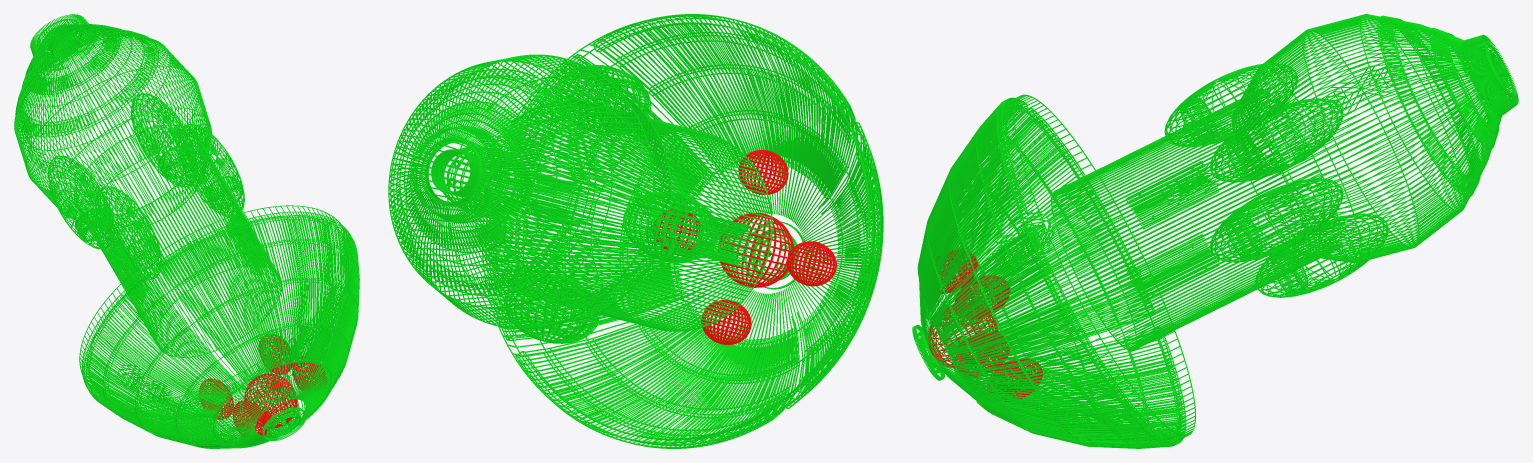
The model's file is warp-generator-highlight-energy-flow-monitoring.glb.
3 renders of one model, left to right at view 1: azimuth 30°, elevation 25°; view 2: azimuth 150°, elevation 25°; view 3: azimuth 270°, elevation 25°, orthographic. The views are drawn at different scales.
Visible parts, largest first — view 1: warp-field-generator technical wire, flux-capacitor-and-energy-ducts technical wire, chassis technical wire, energy-flow-monitoring technical wire; view 2: warp-field-generator technical wire, flux-capacitor-and-energy-ducts technical wire, chassis technical wire, energy-flow-monitoring technical wire; view 3: warp-field-generator technical wire, flux-capacitor-and-energy-ducts technical wire, chassis technical wire, energy-flow-monitoring technical wire.
Part boxes in pixels (left/top/right/bottom): warp-field-generator technical wire: left=79, top=205, right=359, bottom=448; flux-capacitor-and-energy-ducts technical wire: left=14, top=14, right=244, bottom=279; chassis technical wire: left=74, top=125, right=282, bottom=357; energy-flow-monitoring technical wire: left=199, top=333, right=326, bottom=436; warp-field-generator technical wire: left=481, top=14, right=883, bottom=448; flux-capacitor-and-energy-ducts technical wire: left=388, top=54, right=718, bottom=343; chassis technical wire: left=474, top=100, right=772, bottom=331; energy-flow-monitoring technical wire: left=653, top=150, right=836, bottom=344; warp-field-generator technical wire: left=912, top=94, right=1195, bottom=448; flux-capacitor-and-energy-ducts technical wire: left=1164, top=14, right=1518, bottom=297; chassis technical wire: left=1051, top=89, right=1342, bottom=351; energy-flow-monitoring technical wire: left=928, top=250, right=1042, bottom=401.
Bounding box in the file's own units: 1.3 × 1.51 × 2.05.
